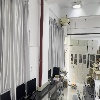fire: (72, 72, 75, 86)
